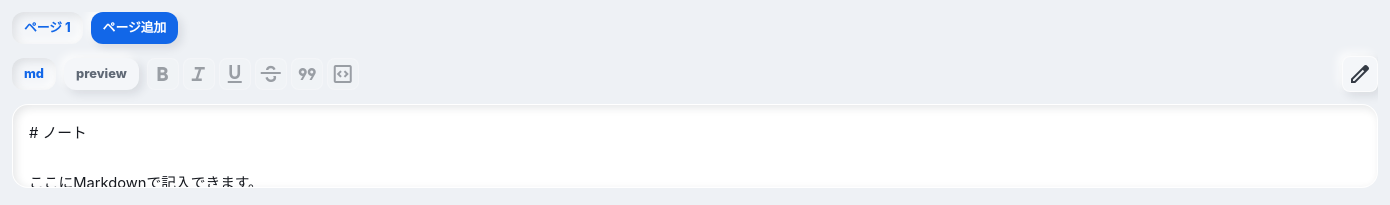
it: WhiteboardPanel › 選択文字へtoolbar書式を適用し、focusと選択範囲を維持してdirtyにする
This screenshot has width=1390, height=205.
Replace the text in the text box with test id "whiteboard-markdown" with "選択する本文" at (695, 146), box [12,104,1378,188]
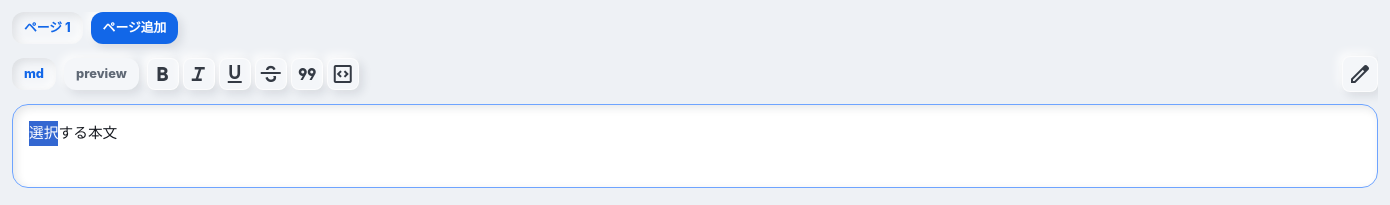
Click the button named "太字" at (163, 74), box [147,58,179,90]
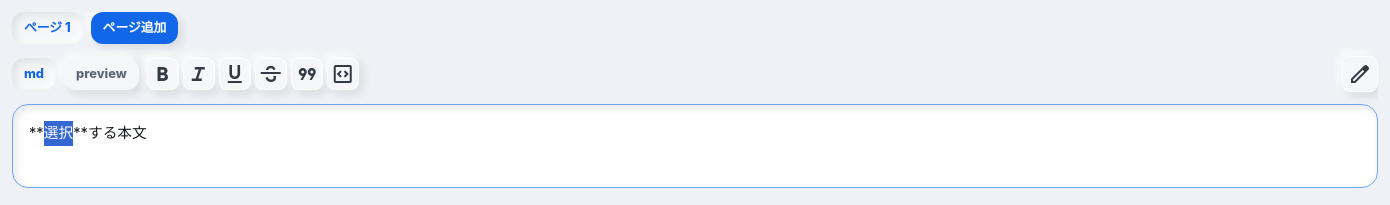
Expected: the text box with test id "whiteboard-markdown" holds "**選択**する本文", [12,104,1378,188]
Click the button with test id "preview-toggle" at (101, 74), box [64,58,139,90]
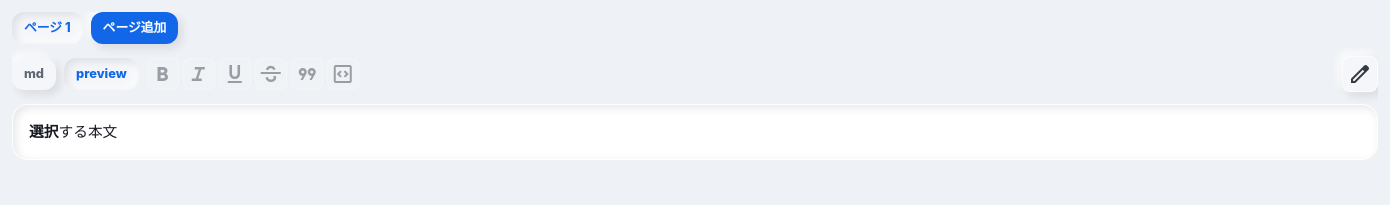
Expected: the text "選択" is shown, [29,123,58,141]
